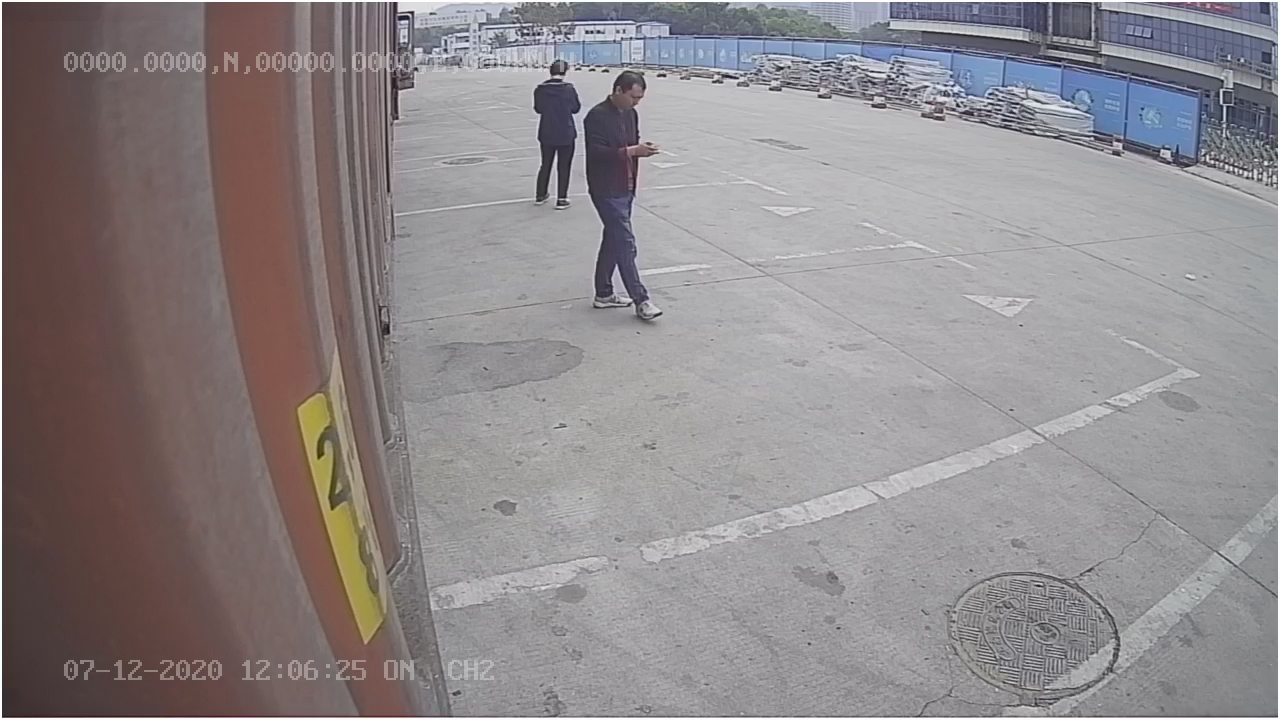person: (580, 65, 666, 319)
